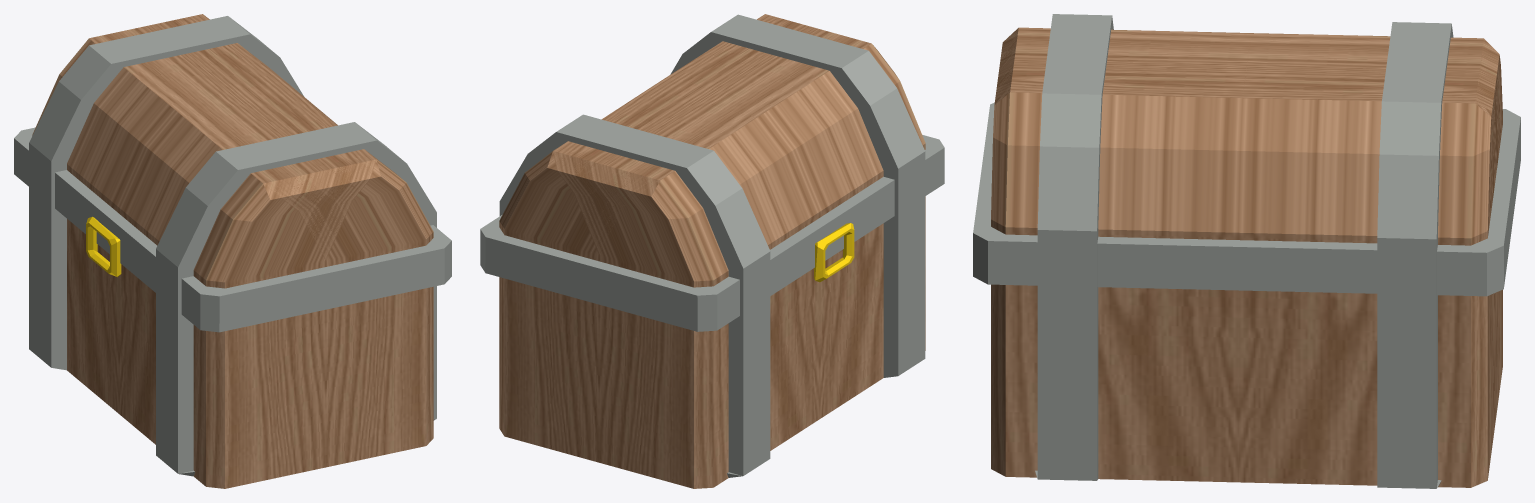
File: TreasureBox.glb
3 renders of one model, left to right at view 1: azimuth 30°, elevation 25°; view 2: azimuth 150°, elevation 25°; view 3: azimuth 270°, elevation 25°, orthographic. The views are drawn at different scales.
Parts seen in each view (by area): view 1: Box; view 2: Box; view 3: Box.
Boxes of the visible parts, x1,y1,x2,y2 form: Box: [14, 14, 451, 488]; Box: [480, 14, 944, 488]; Box: [973, 14, 1520, 488].
Size of the model in its own units: 26.9 by 28.61 by 39.58.
3 materials, 1 textured.
